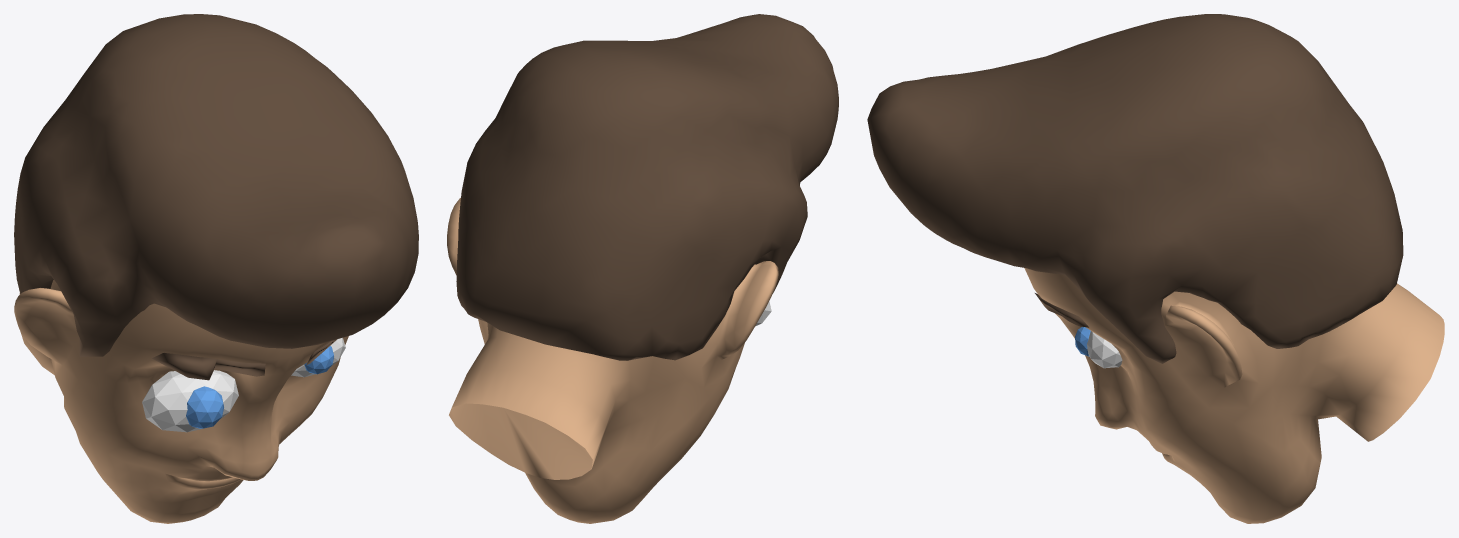
Rendered from head2.fbx.
The picture shows the model from 3 angles, left to right: view 1: azimuth 30°, elevation 25°; view 2: azimuth 150°, elevation 25°; view 3: azimuth 270°, elevation 25°; orthographic projection. The views are drawn at different scales.
Parts seen in each view (by area): view 1: Cube.002; view 2: Cube.002; view 3: Cube.002.
Part boxes in pixels (x1,y1,x2,y2): Cube.002: (14,14,418,523); Cube.002: (447,14,838,523); Cube.002: (867,14,1444,523).
Size of the model in its own units: 170 by 227 by 246.
